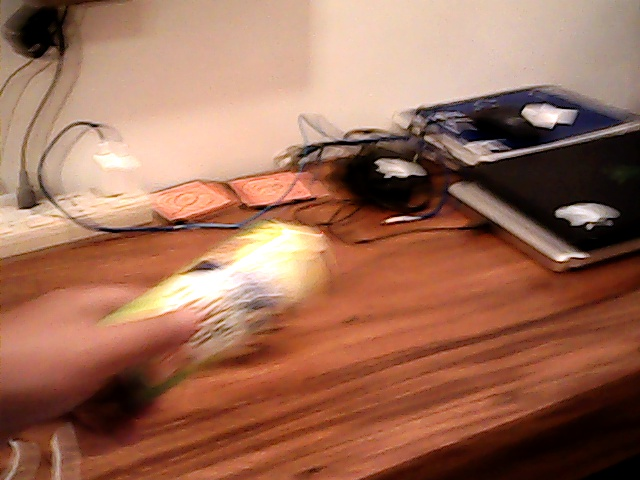Pine Juice: (89, 231, 333, 378)
